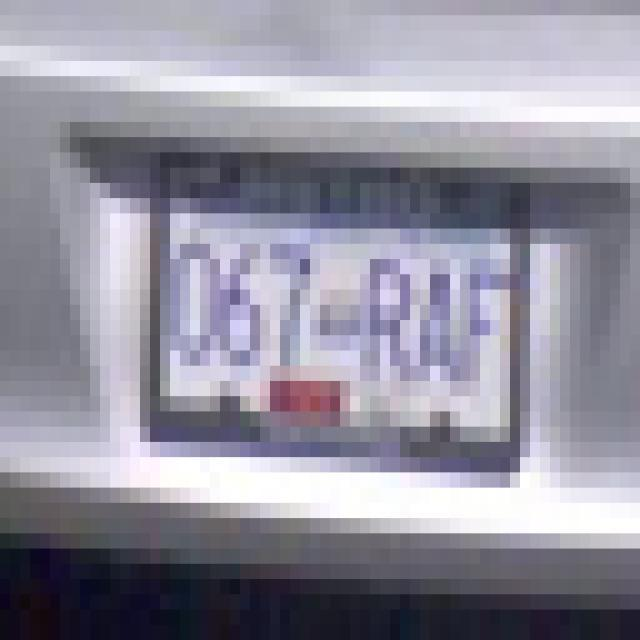0: (167, 196, 224, 400)
6: (220, 203, 264, 390)
7: (264, 218, 325, 401)
A: (411, 232, 457, 426)
F: (461, 235, 523, 409)
R: (362, 238, 417, 406)
